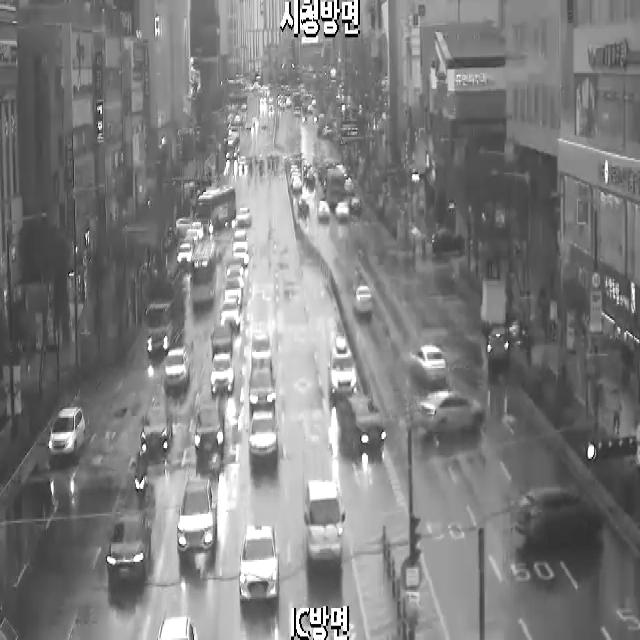Bus: (190, 240, 217, 304), (196, 187, 236, 229), (328, 170, 344, 207), (323, 156, 337, 192), (226, 132, 240, 159)
Car: (516, 486, 602, 542), (303, 481, 346, 567), (106, 511, 152, 581), (239, 526, 280, 604), (177, 478, 217, 553), (337, 395, 386, 453), (420, 391, 484, 434), (48, 407, 85, 458), (328, 335, 357, 396), (195, 396, 224, 456), (246, 411, 279, 463), (140, 405, 172, 451), (249, 372, 276, 416), (414, 345, 446, 381), (165, 348, 190, 390), (211, 353, 234, 395), (156, 617, 198, 640), (432, 229, 464, 257), (210, 326, 234, 361), (250, 332, 272, 370), (486, 327, 509, 363), (220, 301, 240, 331), (509, 322, 528, 350), (354, 286, 372, 314), (225, 282, 242, 308), (177, 243, 193, 266), (232, 230, 248, 253), (233, 247, 249, 268), (226, 278, 244, 296), (226, 260, 243, 279), (236, 208, 252, 227), (176, 218, 193, 235), (318, 202, 330, 222), (336, 202, 350, 219), (298, 200, 310, 219), (192, 223, 204, 239), (344, 178, 355, 195), (350, 197, 362, 212), (290, 169, 300, 184), (293, 176, 302, 192), (337, 165, 348, 177), (307, 170, 315, 184), (290, 165, 298, 176), (304, 164, 312, 175)
Truck: (145, 287, 184, 353), (480, 279, 506, 333)
